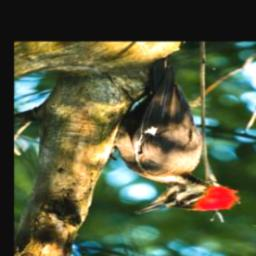Woodpecker: (100, 57, 240, 216)
